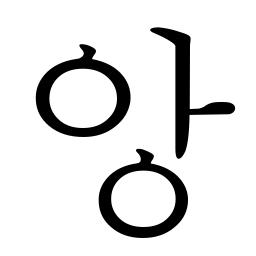Gaji: (158, 86, 212, 138)
